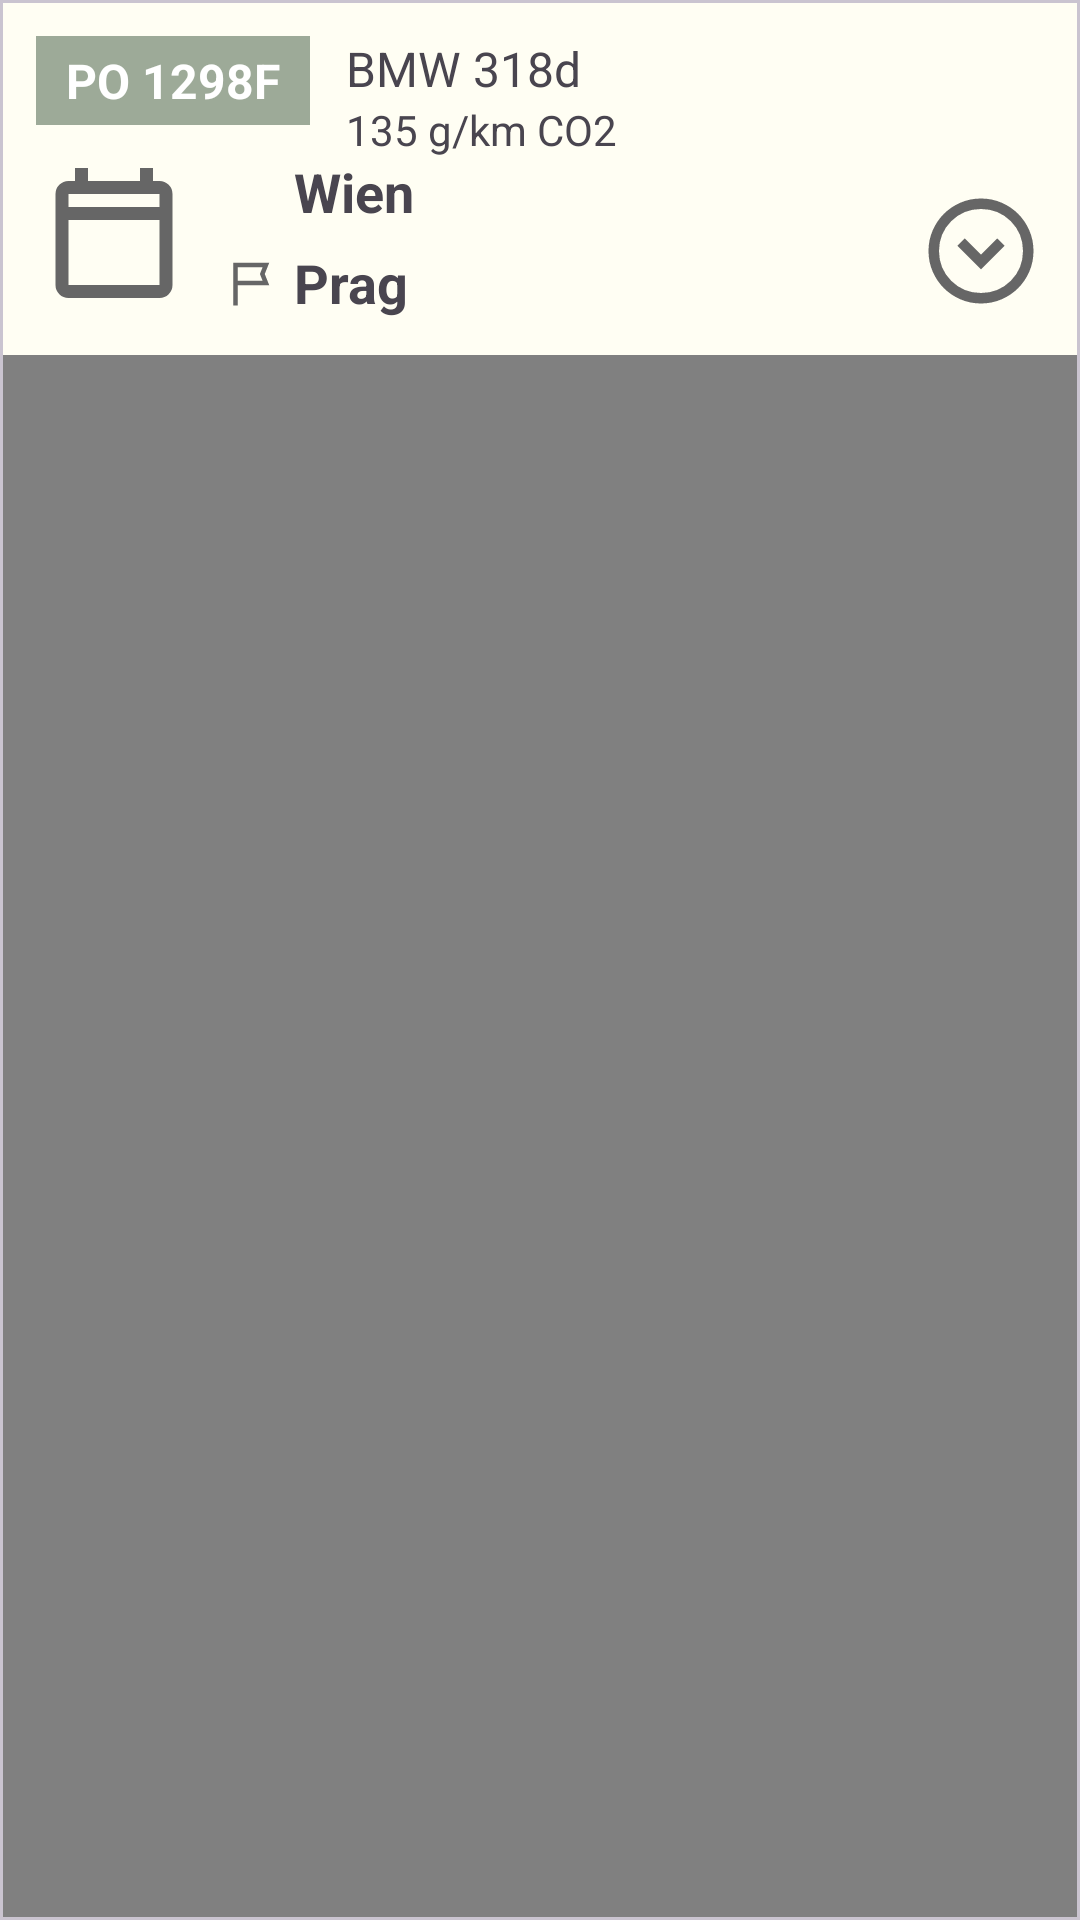

Where icons sit on this 1080 × 1920 app screen, as bbox=[x1, y1, x2, y2]:
Calendar icon: bbox=[55, 168, 173, 298]
Destination icon: bbox=[233, 262, 269, 306]
Expand icon: bbox=[928, 198, 1034, 304]
